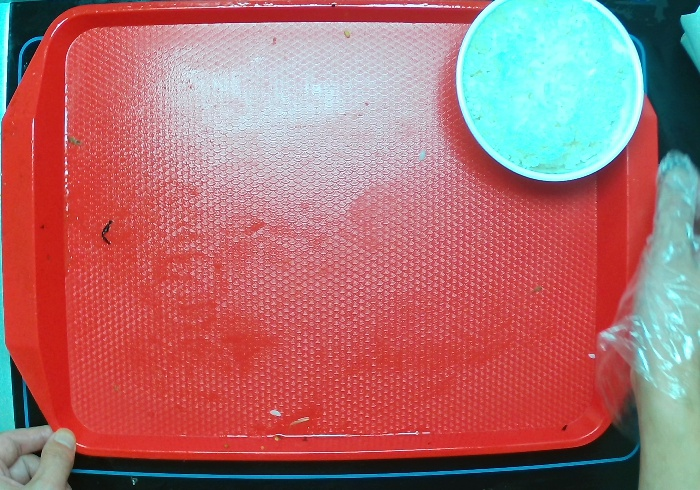YKMZ-Fan_Wan: (442, 1, 661, 191)
